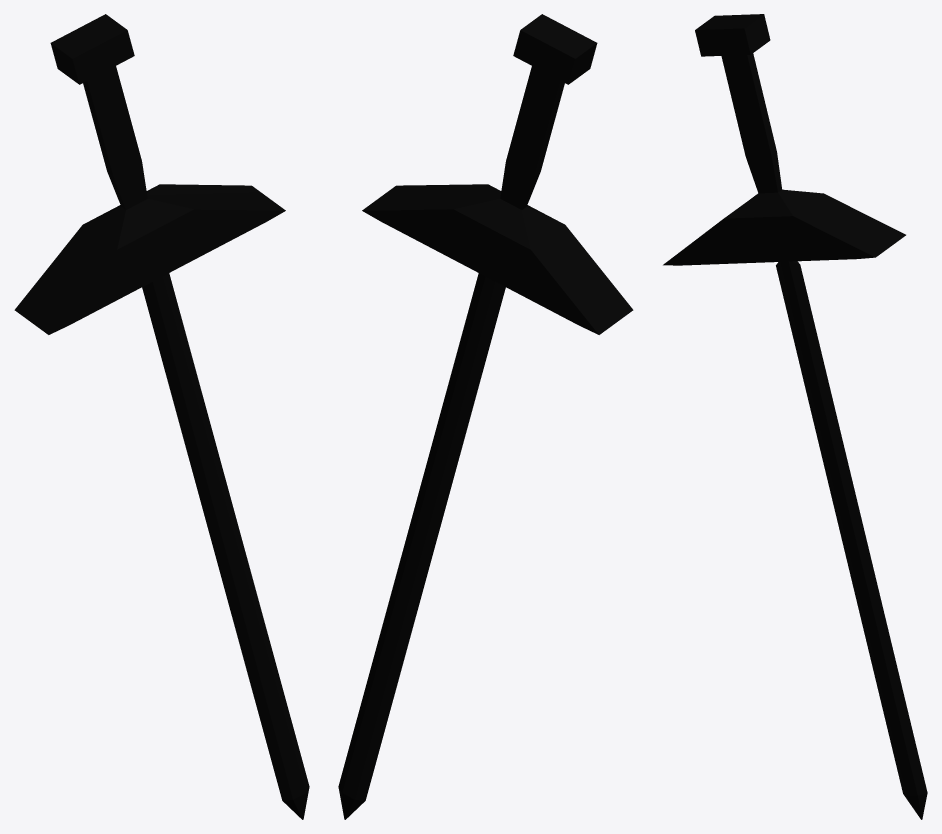
The model's file is Sword.fbx.
3 renders of one model, left to right at view 1: azimuth 30°, elevation 25°; view 2: azimuth 150°, elevation 25°; view 3: azimuth 330°, elevation 25°, orthographic. The views are drawn at different scales.
Parts seen in each view (by area): view 1: root; view 2: root; view 3: root.
Part boxes in pixels (x1,y1,x2,y2): root: [14, 14, 309, 819]; root: [338, 14, 633, 819]; root: [663, 14, 927, 819].
Bounding box in the file's own units: 0.1651 × 0.4787 × 0.0353.
Materials: 1 (1 with a texture image).
